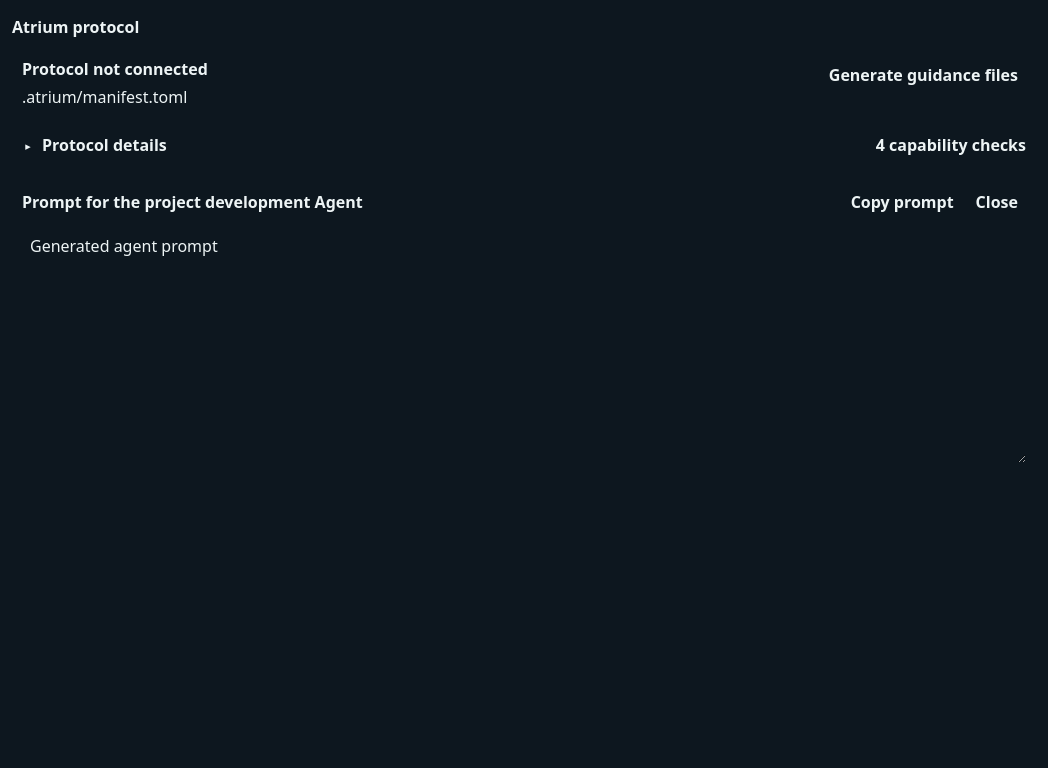
Test: project protocol section › keeps disclosure content mounted while an open or close can be interrupted
The width and height of the screenshot is (1048, 768).
Click the button "▸ Protocol details 4 capability checks".
click(104, 145)  # box [12,126,1036,164]
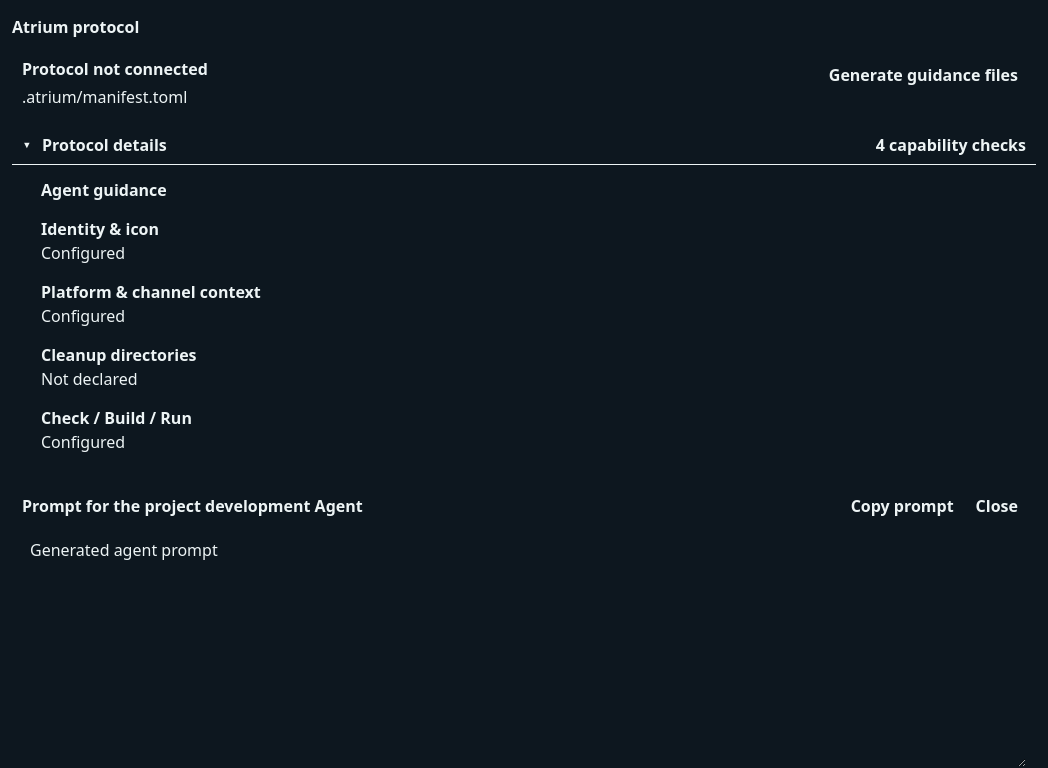
Expected: the button "▸ Protocol details 4 capability checks" is expanded
Click the button "▸ Protocol details 4 capability checks".
click(104, 145)  # box [12,126,1036,164]
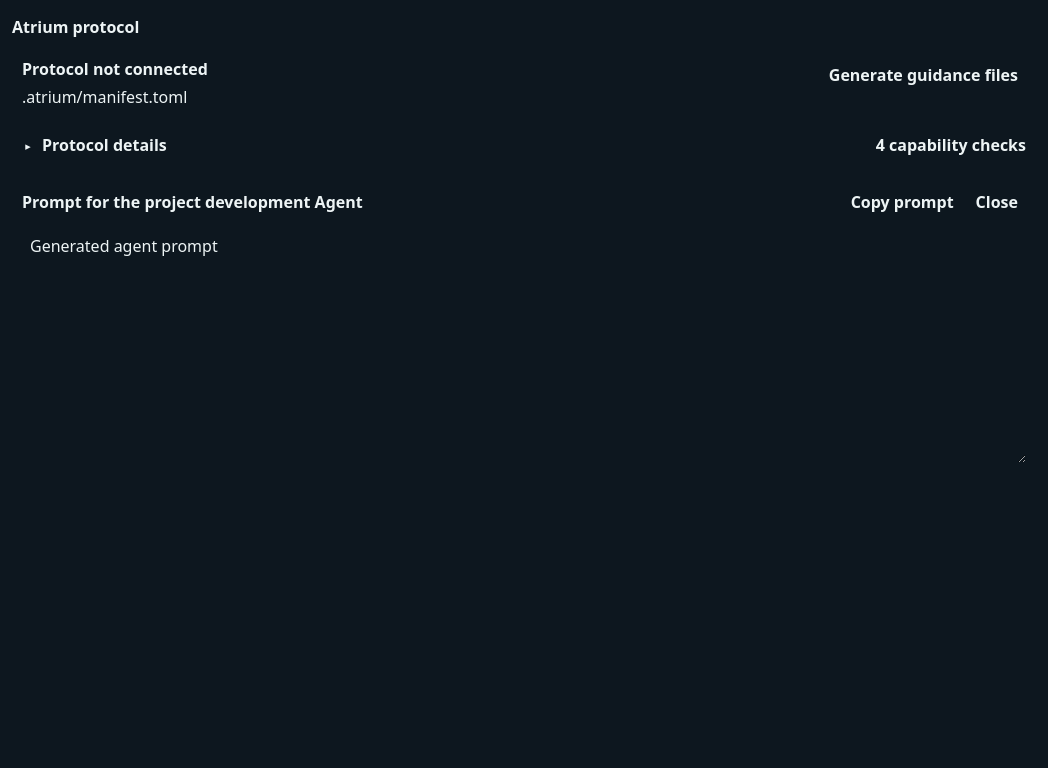
Expected: the button "▸ Protocol details 4 capability checks" is collapsed, [12,126,1036,164]
